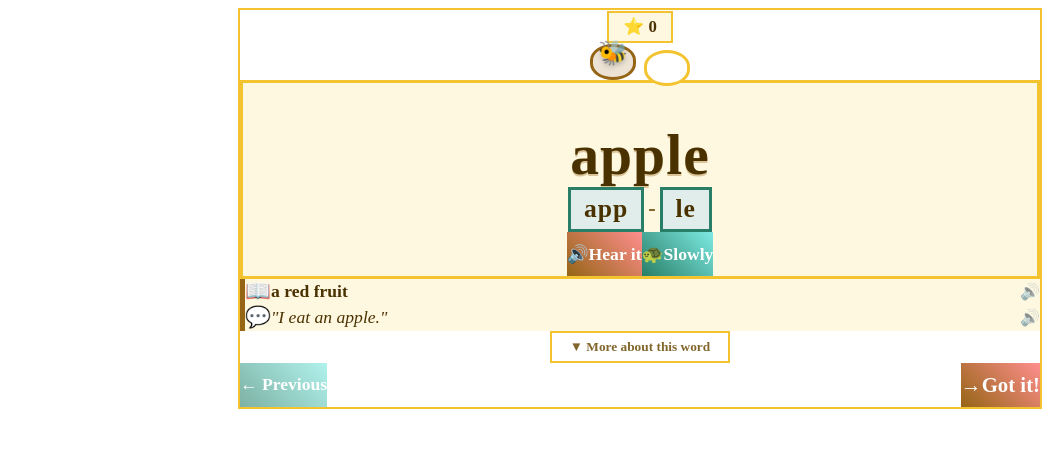
LearnMode Component › shows the goal-reached celebration when the daily goal is just met
This screenshot has width=1059, height=455.
Click the button "→ Got it!": [1000, 384] box 961,362 -> 1040,406
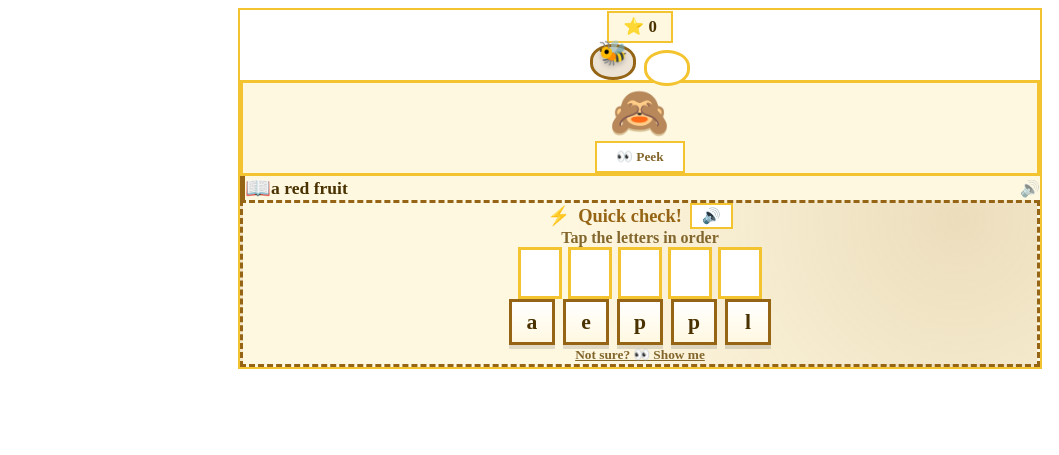
Click the button "Not sure? 👀 Show me": [640, 355] box 569,346 -> 711,364
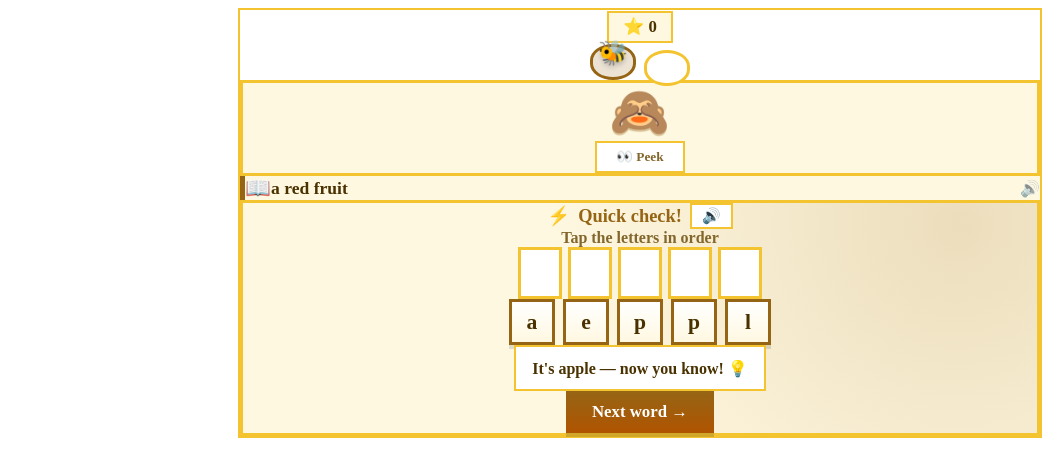
Click the button "Next word →": [640, 412] box 566,391 -> 714,433
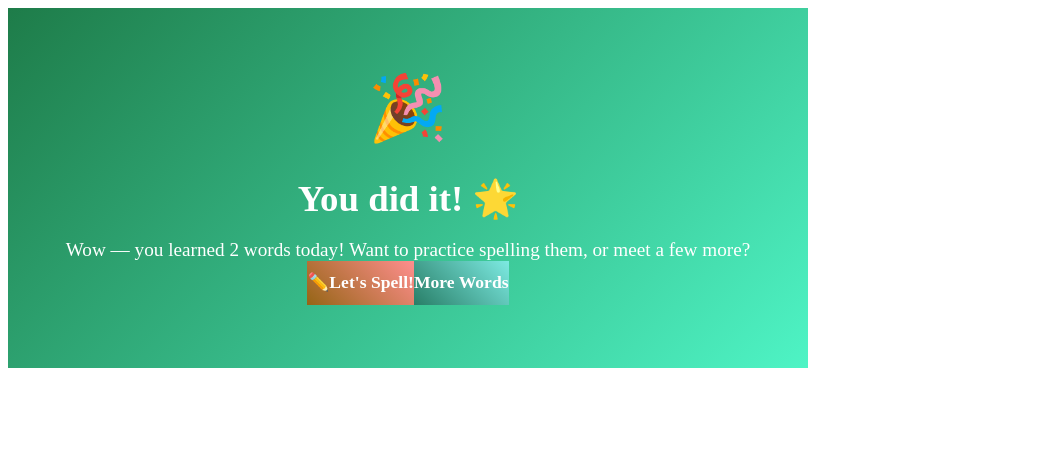
expect the heading "You did it! 🌟" is shown: met, box 298,178 -> 518,219
expect the button "✏️ Let's Spell!" is shown: met, box 307,261 -> 414,305
